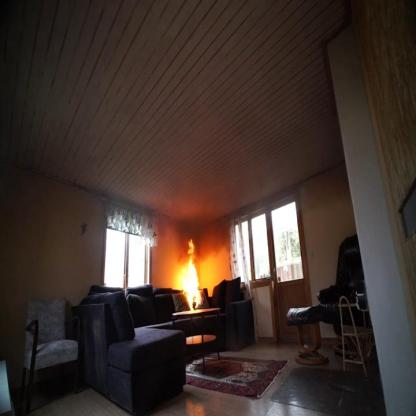fire: (176, 236, 209, 315)
